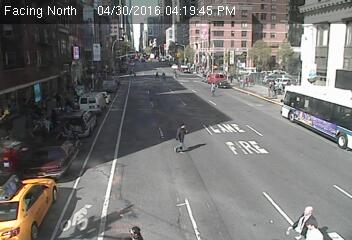neg: (57, 27, 83, 62), (35, 106, 58, 136), (117, 149, 138, 178), (6, 30, 27, 58), (67, 108, 88, 136), (282, 24, 303, 51), (18, 80, 38, 107), (39, 68, 59, 95), (309, 25, 328, 51), (261, 23, 279, 46), (121, 31, 137, 52), (239, 24, 254, 44), (178, 30, 192, 49), (104, 30, 118, 48), (97, 63, 110, 80), (217, 27, 229, 44), (54, 78, 65, 93), (153, 42, 163, 55), (81, 66, 91, 79), (179, 178, 188, 191), (143, 27, 150, 35)
pos: (292, 200, 320, 237), (170, 121, 194, 152), (208, 81, 221, 98), (239, 76, 251, 91), (265, 79, 276, 94), (158, 72, 168, 85), (226, 68, 236, 80), (170, 67, 179, 79), (131, 70, 140, 82), (154, 69, 160, 78)
